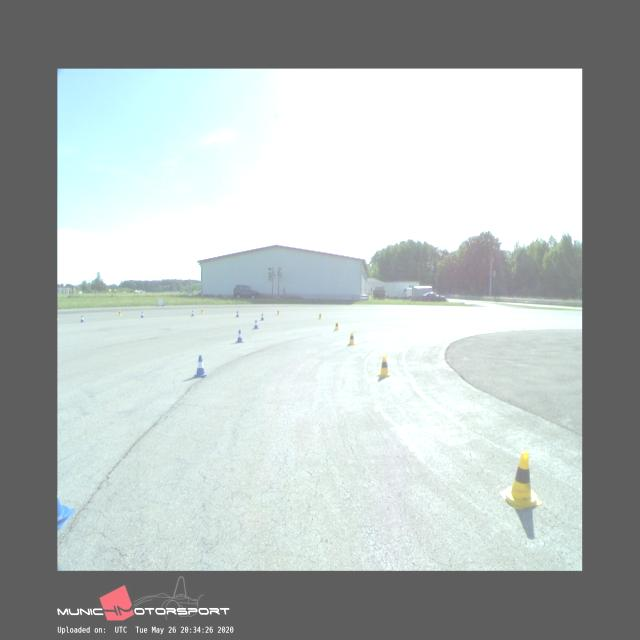blue_cone: (194, 356, 207, 376), (236, 330, 243, 342), (254, 320, 258, 329), (260, 313, 264, 321), (80, 315, 84, 322), (236, 311, 240, 317), (190, 310, 194, 316), (140, 312, 144, 318)
yellow_cone: (500, 451, 540, 506), (378, 355, 392, 377), (348, 331, 356, 344), (334, 321, 340, 330), (318, 312, 322, 319), (276, 309, 280, 315), (200, 308, 204, 314), (118, 310, 122, 316)
